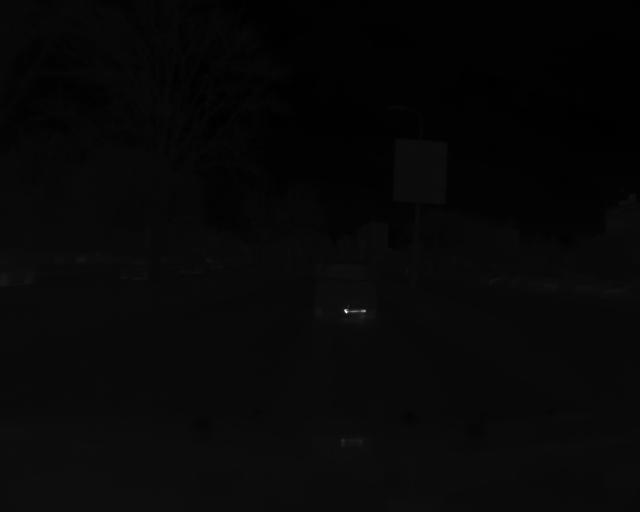car: (308, 261, 380, 321)
